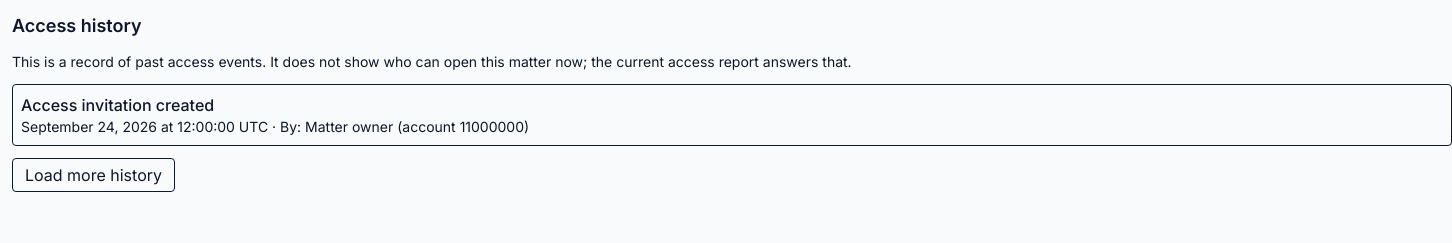
it: Stage 10 AccessHistoryPanel › a failed next page keeps loaded entries and announces the error
The image size is (1452, 243).
Click the button "Load more history" at (94, 175), box [12,158,175,192]
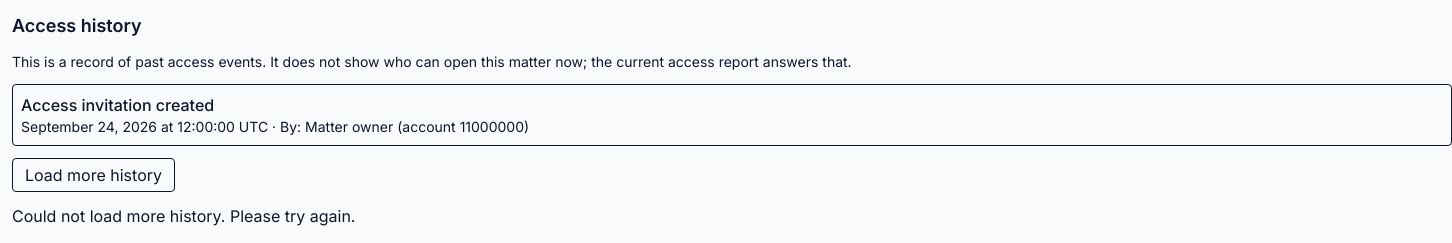
expect the number of list items with test id "access-history-entry" is 1: met, box [12,84,1451,146]
expect the message shows "Could not load more history": met, box [12,206,356,226]
